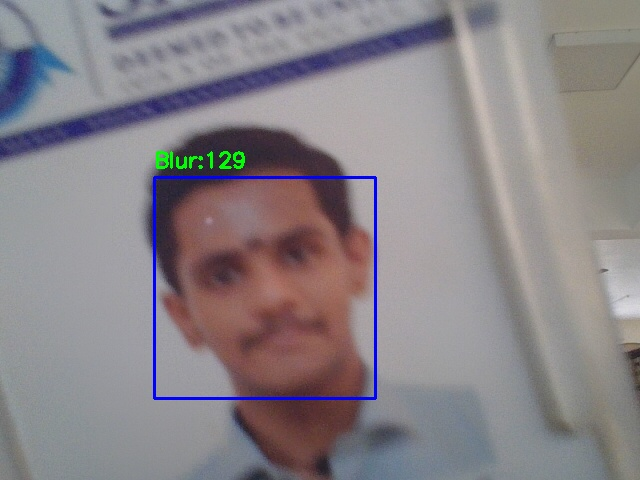fake: (154, 177, 375, 398)
